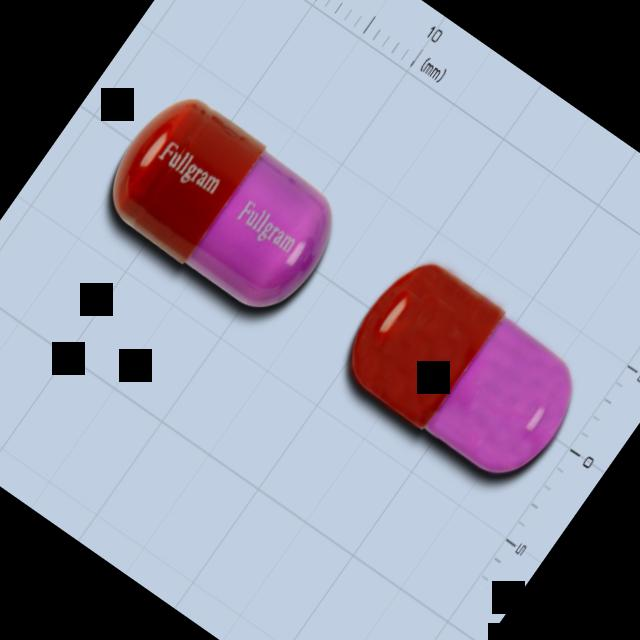Fullgram Cap: (89, 80, 358, 330)
